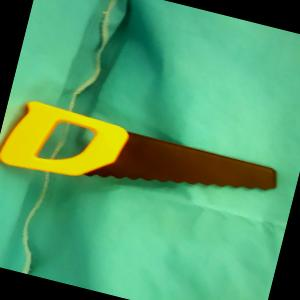serrote: (0, 94, 283, 228)
